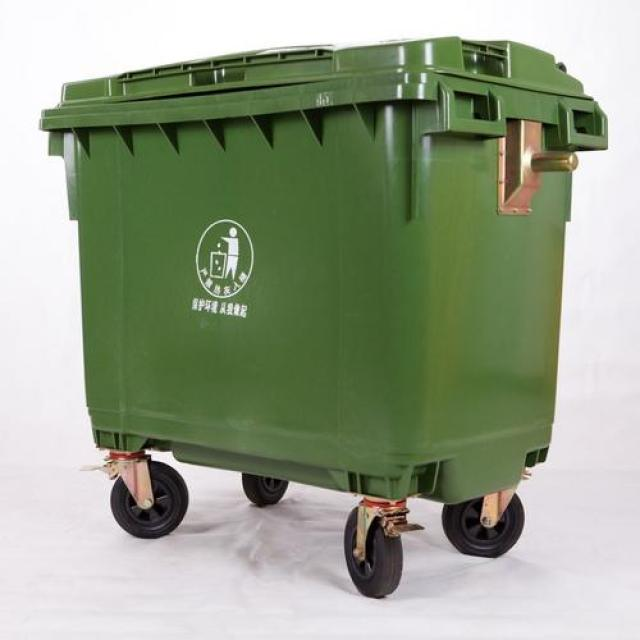garbage_bin: (38, 35, 604, 503)
